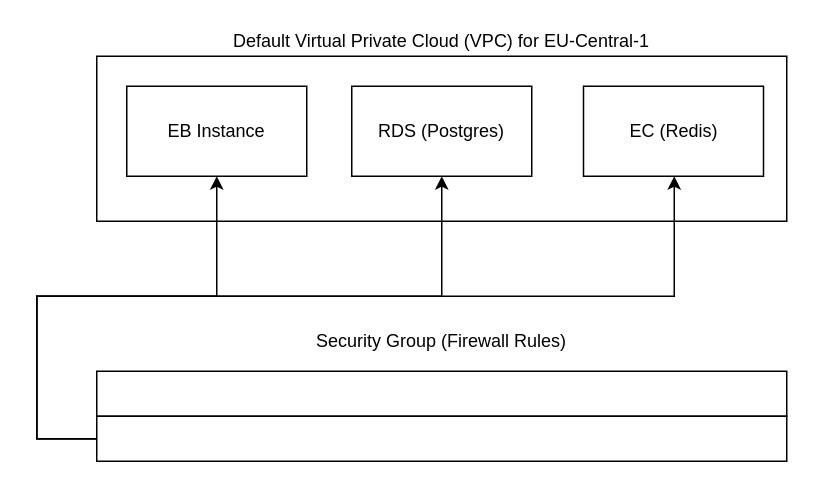
Some shapes in this 813 by 488 pixel diagram are drawn without their labels. Each missing label, with the centre of its shape:
"Allow any incoming traffic on Port 80 from any IP" belongs at (441,393).
"Allow any traffic from any other AWS servce that has this security group" belongs at (441,438).
